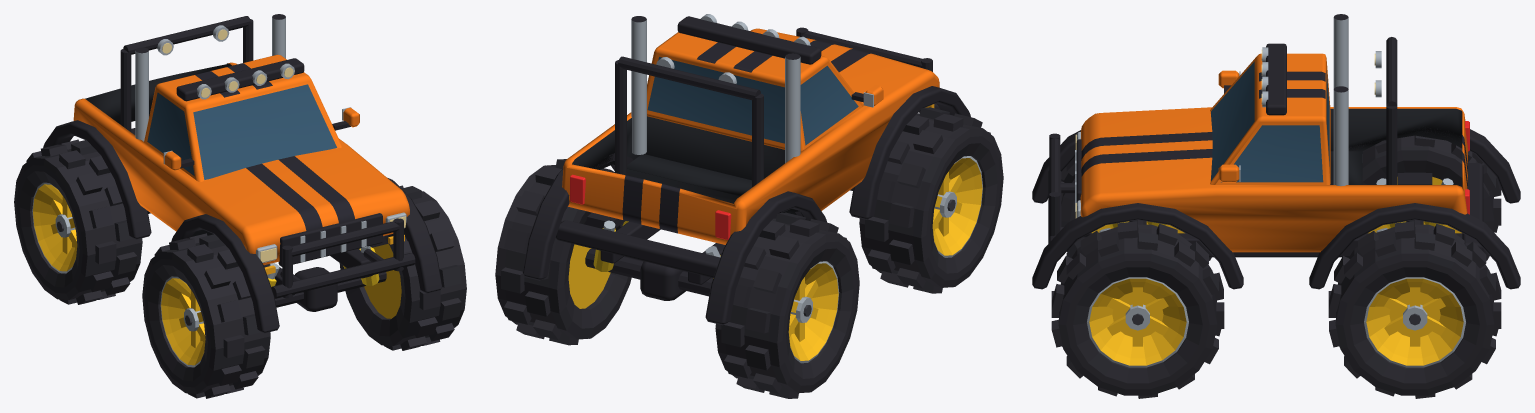
File: vuena-monster-orange.glb
3 views of the same model, side by side, from view 1: azimuth 30°, elevation 25°; view 2: azimuth 150°, elevation 25°; view 3: azimuth 270°, elevation 25° (orthographic). The views are drawn at different scales.
Visible parts, largest first — view 1: monster_body, wheel_FR, wheel_RR, wheel_FL; view 2: monster_body, wheel_FR, wheel_RR, wheel_RL; view 3: monster_body, wheel_FL, wheel_RL, wheel_RR, wheel_FR.
Boxes of the visible parts, x1,y1,x2,y2 form: monster_body: (43, 14, 442, 333); wheel_FR: (142, 233, 270, 398); wheel_RR: (14, 139, 142, 304); wheel_FL: (339, 185, 466, 350); monster_body: (522, 14, 970, 325); wheel_FR: (859, 107, 1003, 293); wheel_RR: (715, 212, 859, 398); wheel_RL: (495, 159, 631, 345); monster_body: (1032, 14, 1520, 289); wheel_FL: (1051, 221, 1224, 398); wheel_RL: (1328, 221, 1501, 398); wheel_RR: (1347, 135, 1501, 260); wheel_FR: (1061, 157, 1211, 260).
Bounding box in the file's own units: 2.74 × 2.71 × 4.23.
Materials: 1 (1 with a texture image).
